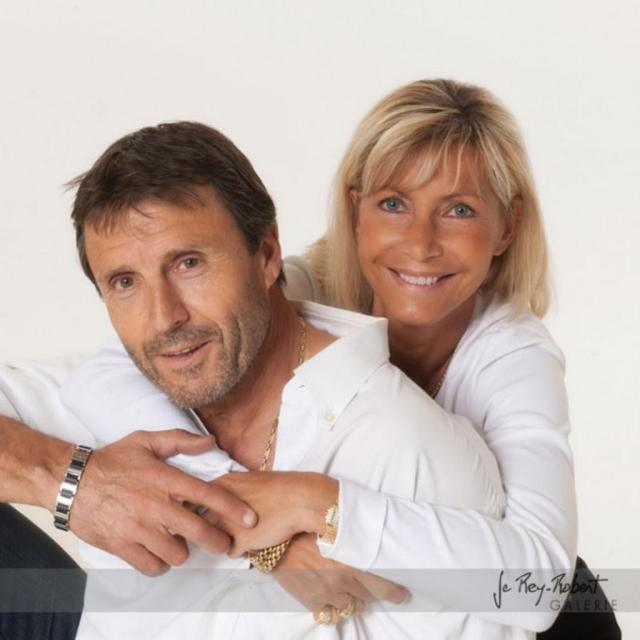Face: (96, 185, 277, 423), (349, 140, 500, 322)
